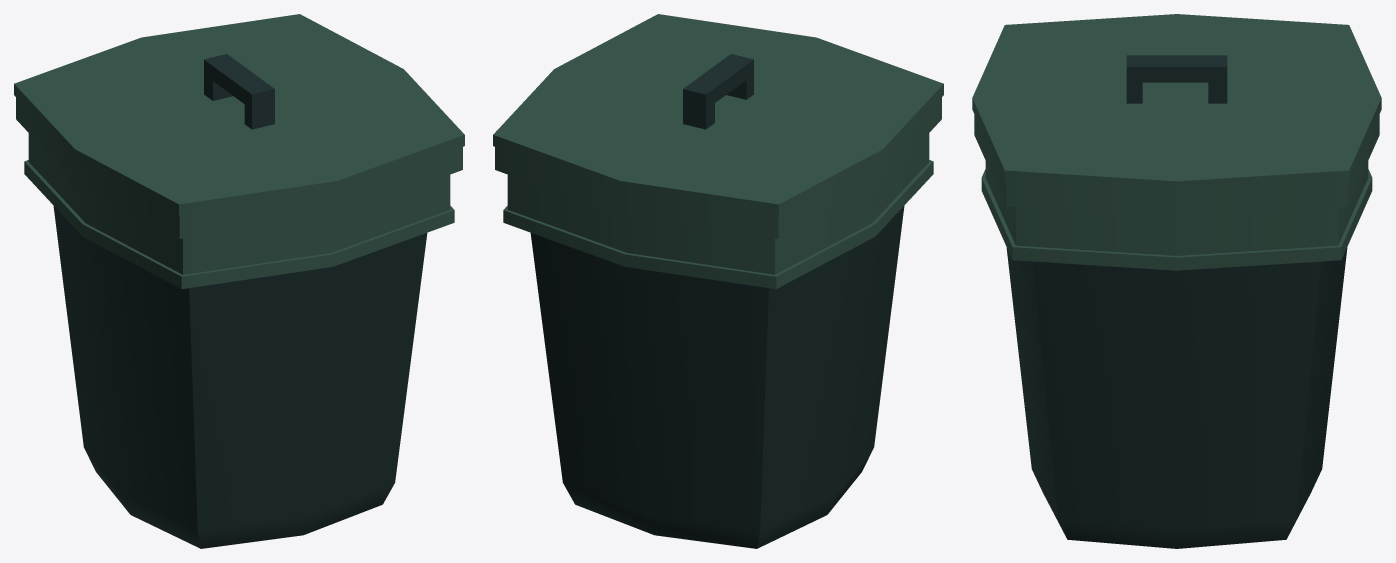
Rendered from Tacho.fbx.
3 views of the same model, side by side, from view 1: azimuth 30°, elevation 25°; view 2: azimuth 150°, elevation 25°; view 3: azimuth 270°, elevation 25° (orthographic). The views are drawn at different scales.
Parts seen in each view (by area): view 1: Tacho_Tapa, Tacho_Base, Tacho_Manija; view 2: Tacho_Tapa, Tacho_Base, Tacho_Manija; view 3: Tacho_Tapa, Tacho_Base, Tacho_Manija.
Boxes of the visible parts, bbox=[...] form: Tacho_Tapa: bbox=[14, 14, 464, 289]; Tacho_Base: bbox=[53, 205, 427, 548]; Tacho_Manija: bbox=[204, 54, 274, 129]; Tacho_Tapa: bbox=[493, 14, 943, 289]; Tacho_Base: bbox=[530, 205, 904, 548]; Tacho_Manija: bbox=[683, 54, 753, 129]; Tacho_Tapa: bbox=[972, 14, 1381, 270]; Tacho_Base: bbox=[1006, 247, 1347, 548]; Tacho_Manija: bbox=[1126, 55, 1227, 103].
Bounding box in the file's own units: 1.82 × 2.19 × 1.88.
